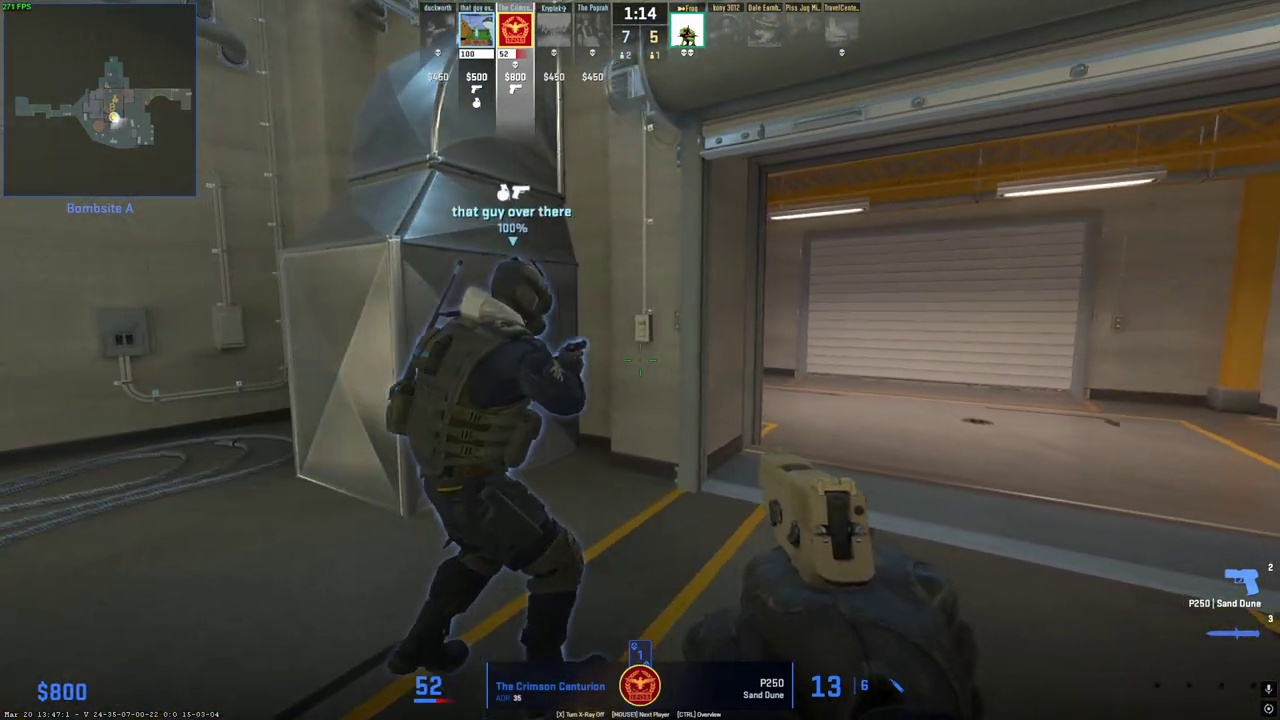CT: (399, 256, 584, 684)
